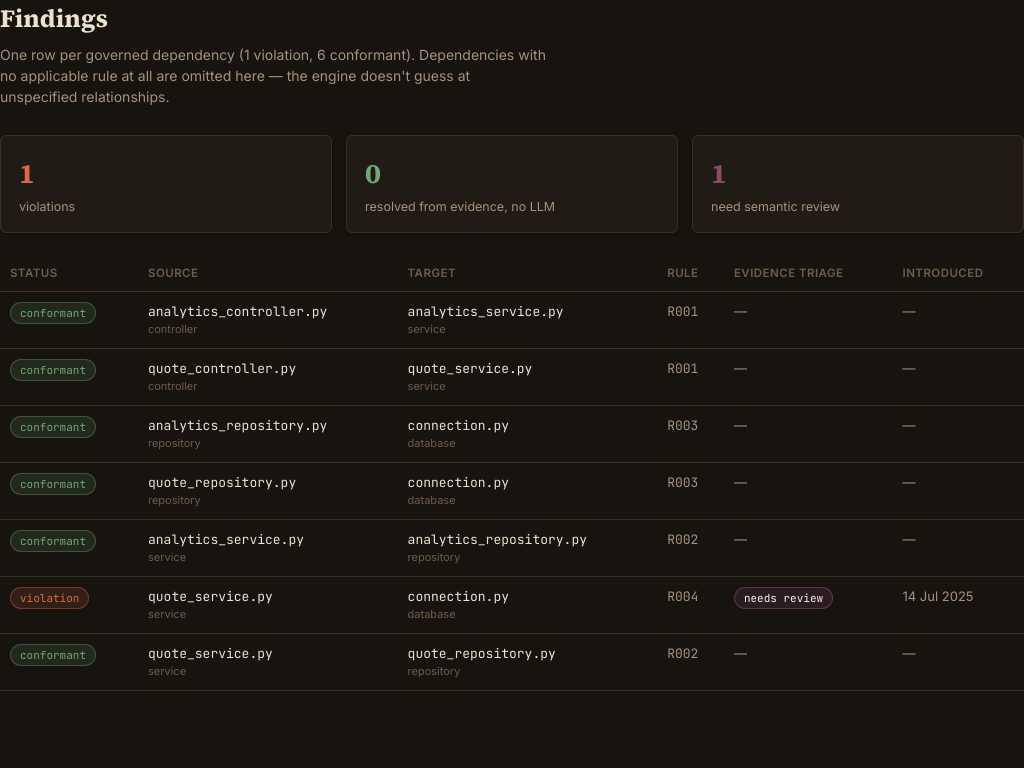
Finding detail › runs the analysis and then shows the final verdict, explanation and cost
Click the row that starts with "violation" at point(512, 604), box top-left (0, 576), bottom-right (1023, 633)
(page scrolled)
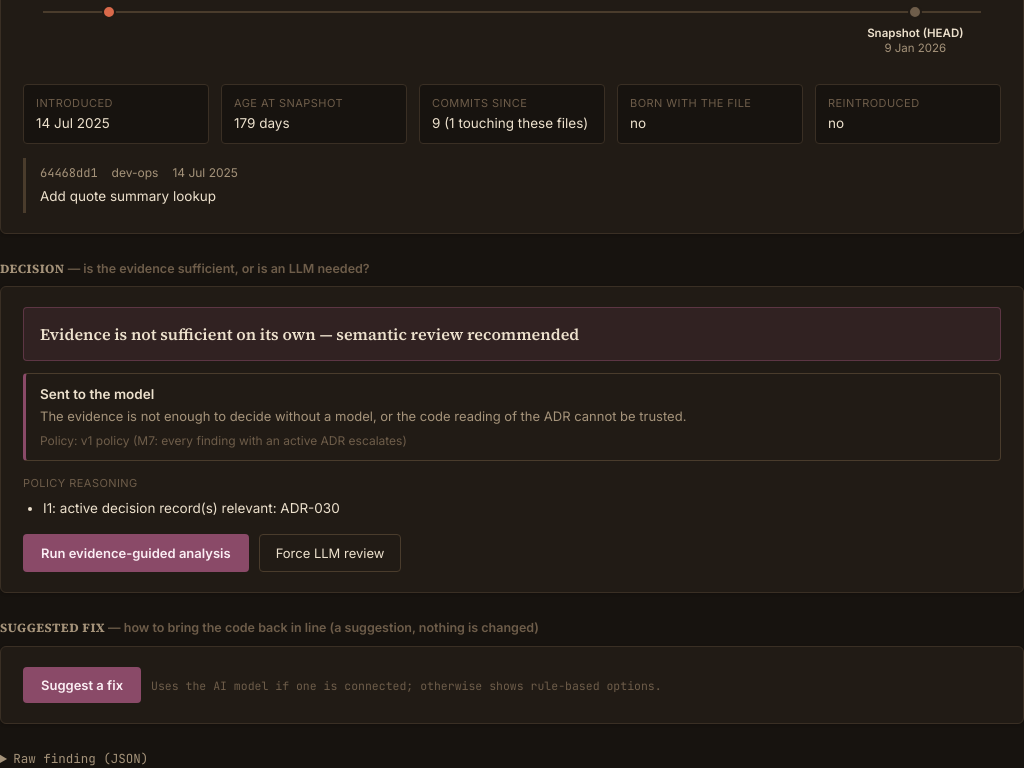
Expected: the element with test id "decision-panel" is shown, top-left (23, 307), bottom-right (1001, 572)
Click the button "Run evidence-guided analysis" at point(136, 553), box top-left (23, 534), bottom-right (249, 572)
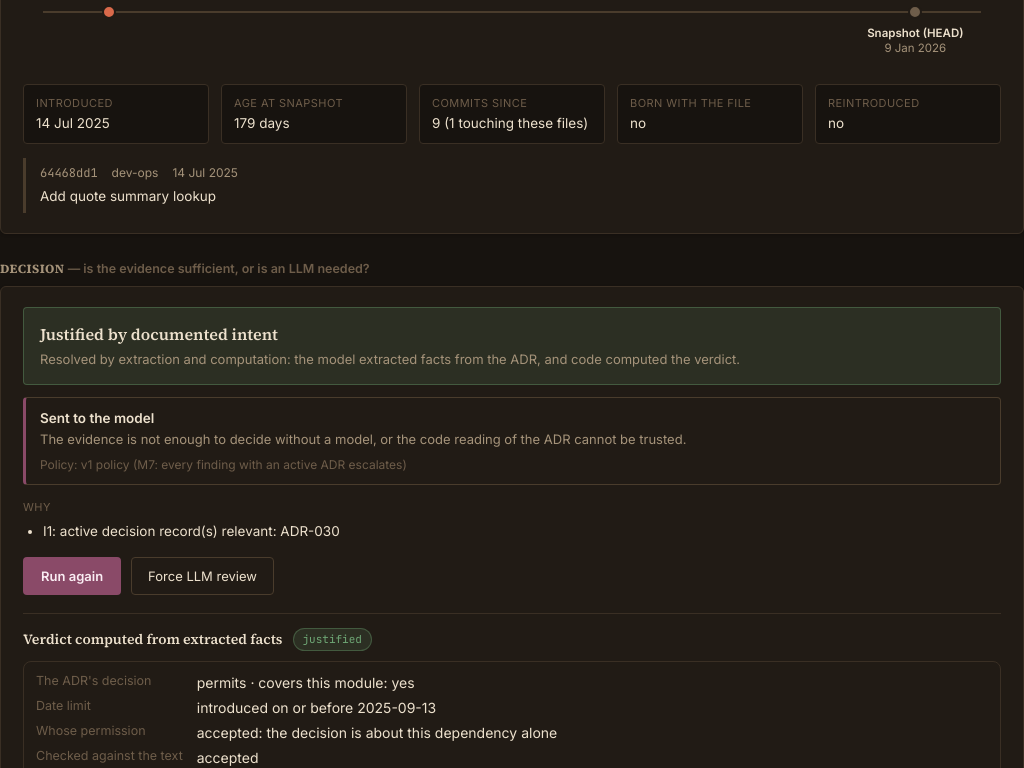
Expected: the element with test id "verdict-banner" shows "Justified by documented intent", top-left (40, 323), bottom-right (278, 345)
